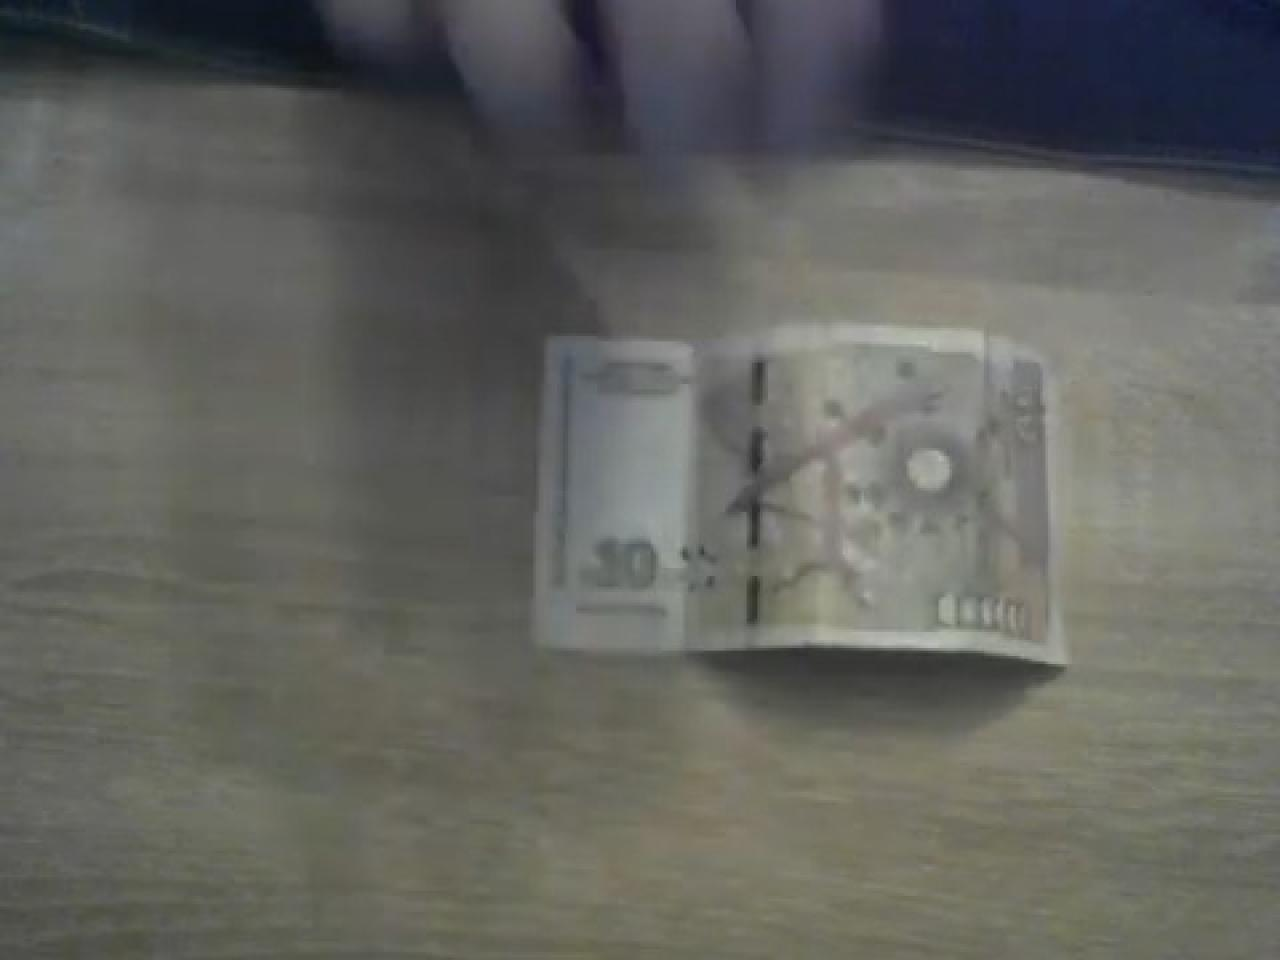10leva: (531, 325, 1064, 677)
